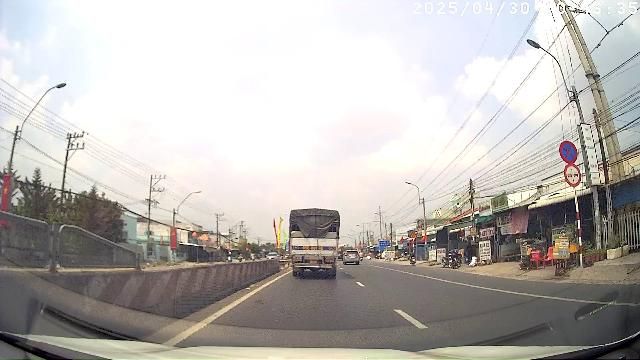125-cam-vuot: (563, 163, 582, 187)
130-cam-dung-va-do-xe: (559, 140, 579, 163)
